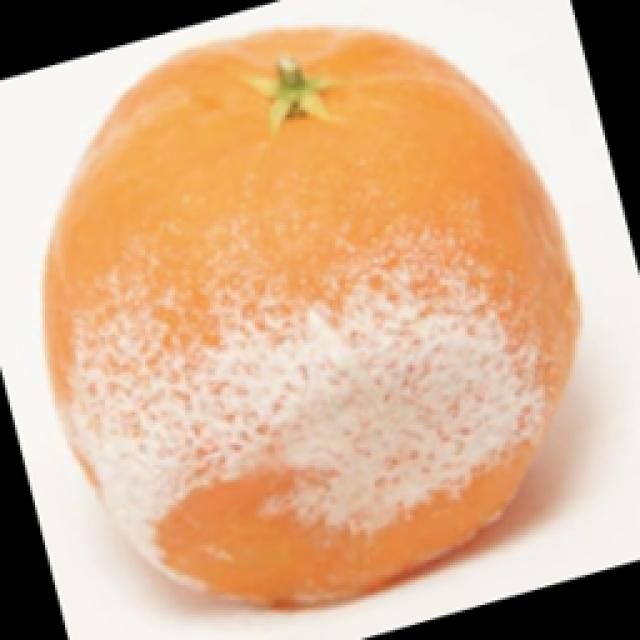Rotten_Orange: (0, 0, 625, 588)
